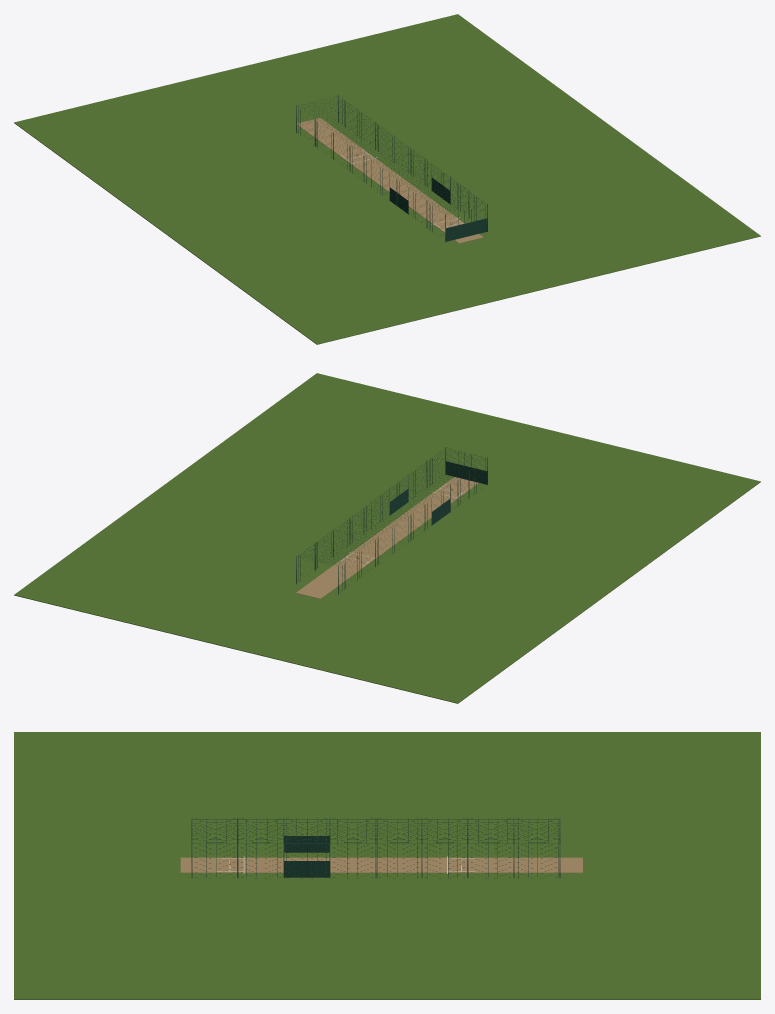
File: Nets.fbx
3 renders of one model, top to bottom at view 1: azimuth 30°, elevation 25°; view 2: azimuth 150°, elevation 25°; view 3: azimuth 270°, elevation 25°, orthographic. The views are drawn at different scales.
Visible parts, largest first — view 1: Grass_ground, Worn_pitch, Green_mesh_nets, Far_practice_screen; view 2: Grass_ground, Worn_pitch, Green_mesh_nets, Far_practice_screen; view 3: Grass_ground, Worn_pitch, Green_mesh_nets, Side_practice_screen, Side_practice_screen.001.
Boxes of the visible parts, x1,y1,x2,y2 form: Grass_ground: (14, 14, 760, 344); Worn_pitch: (297, 118, 483, 243); Green_mesh_nets: (298, 96, 486, 231); Far_practice_screen: (446, 218, 487, 241); Grass_ground: (14, 373, 760, 703); Worn_pitch: (296, 477, 478, 598); Green_mesh_nets: (298, 447, 487, 591); Far_practice_screen: (446, 461, 487, 484); Grass_ground: (14, 732, 760, 999); Worn_pitch: (180, 857, 582, 872); Green_mesh_nets: (192, 818, 559, 878); Side_practice_screen: (284, 836, 329, 852); Side_practice_screen.001: (284, 861, 329, 877).
Bounding box in the file's own units: 5500 × 338 × 6500.
